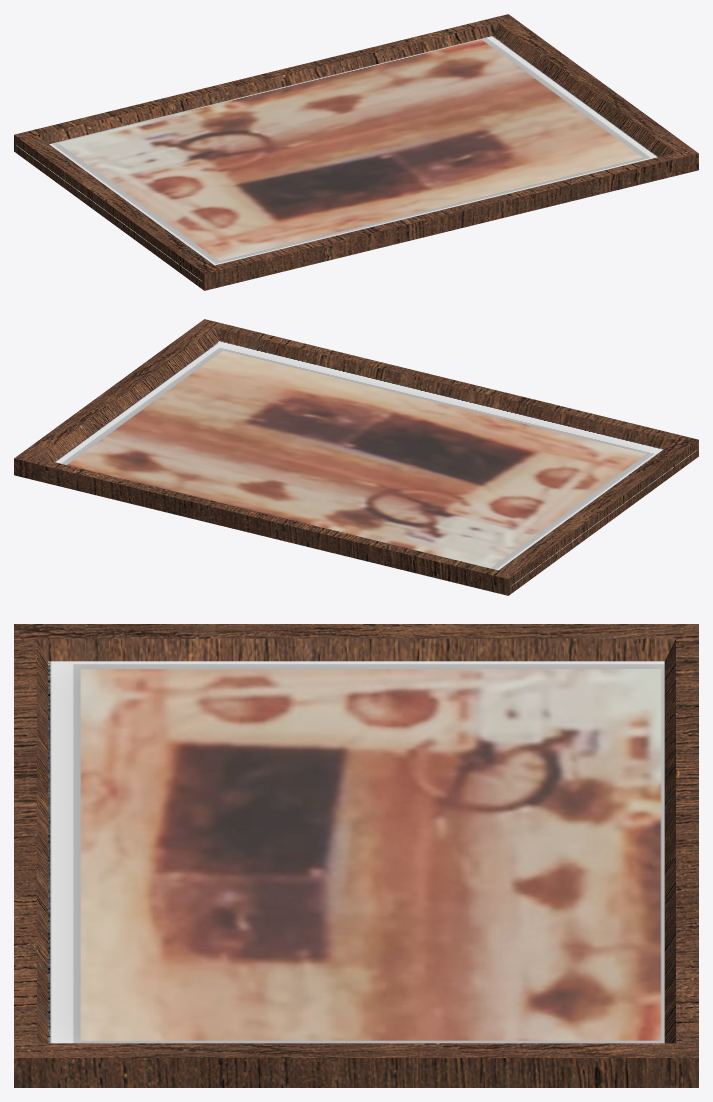
3 renders of one model, top to bottom at view 1: azimuth 30°, elevation 25°; view 2: azimuth 150°, elevation 25°; view 3: azimuth 270°, elevation 25°, orthographic. The views are drawn at different scales.
Parts seen in each view (by area): view 1: Plane, frame1(1); view 2: Plane, frame1(1); view 3: Plane, frame1(1).
Boxes of the visible parts, <box> form: Plane: <box>16,36,658,281</box>; frame1(1): <box>14,14,698,290</box>; Plane: <box>54,341,696,586</box>; frame1(1): <box>14,319,698,595</box>; Plane: <box>48,661,664,1043</box>; frame1(1): <box>14,624,698,1087</box>.
Size of the model in its own units: 13.18 by 0.4268 by 8.79.
Materials: 2 (2 with a texture image).
